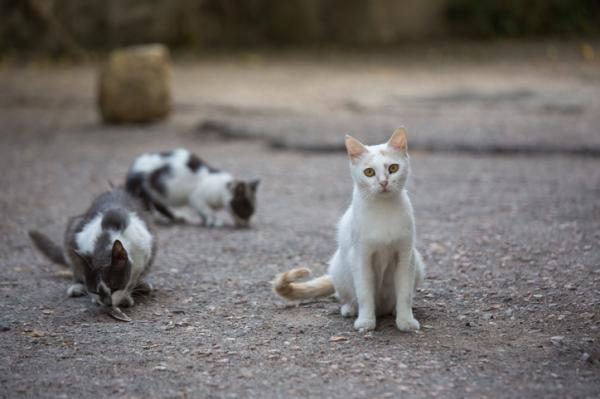cat: (270, 122, 452, 345), (29, 183, 162, 328), (133, 147, 268, 217)
